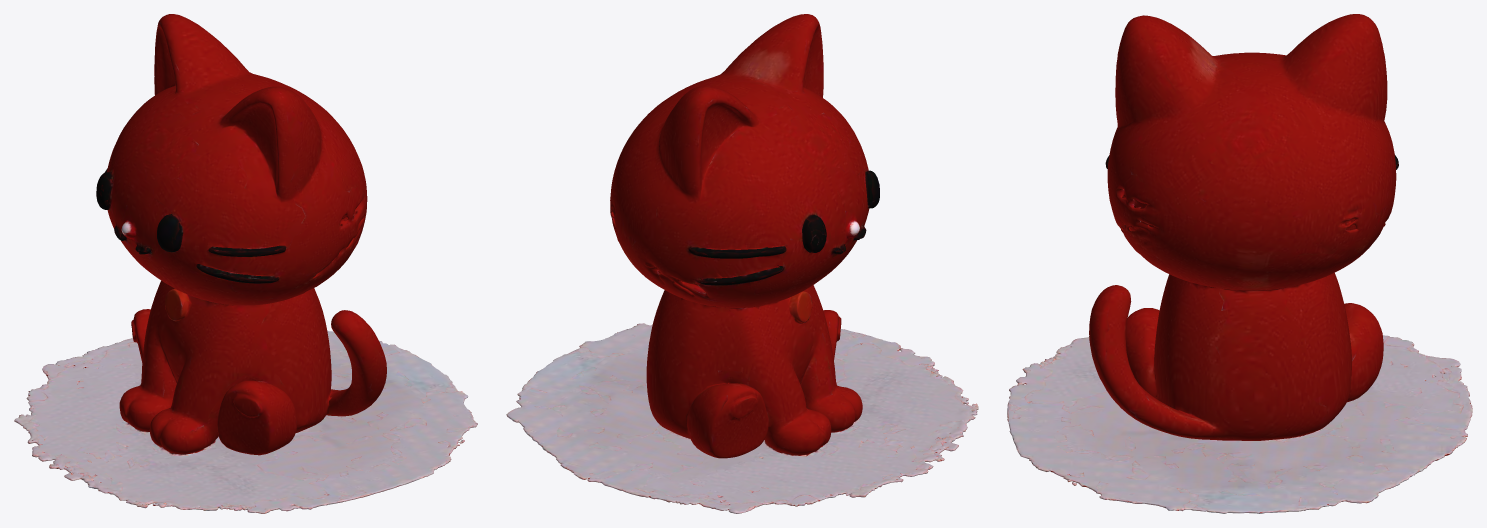
Rendered from catv2.glb.
The picture shows the model from 3 angles, left to right: view 1: azimuth 30°, elevation 25°; view 2: azimuth 150°, elevation 25°; view 3: azimuth 270°, elevation 25°; orthographic projection. The views are drawn at different scales.
Size of the model in its own units: 0.9967 by 0.8921 by 0.964.
1 material, 1 textured.
